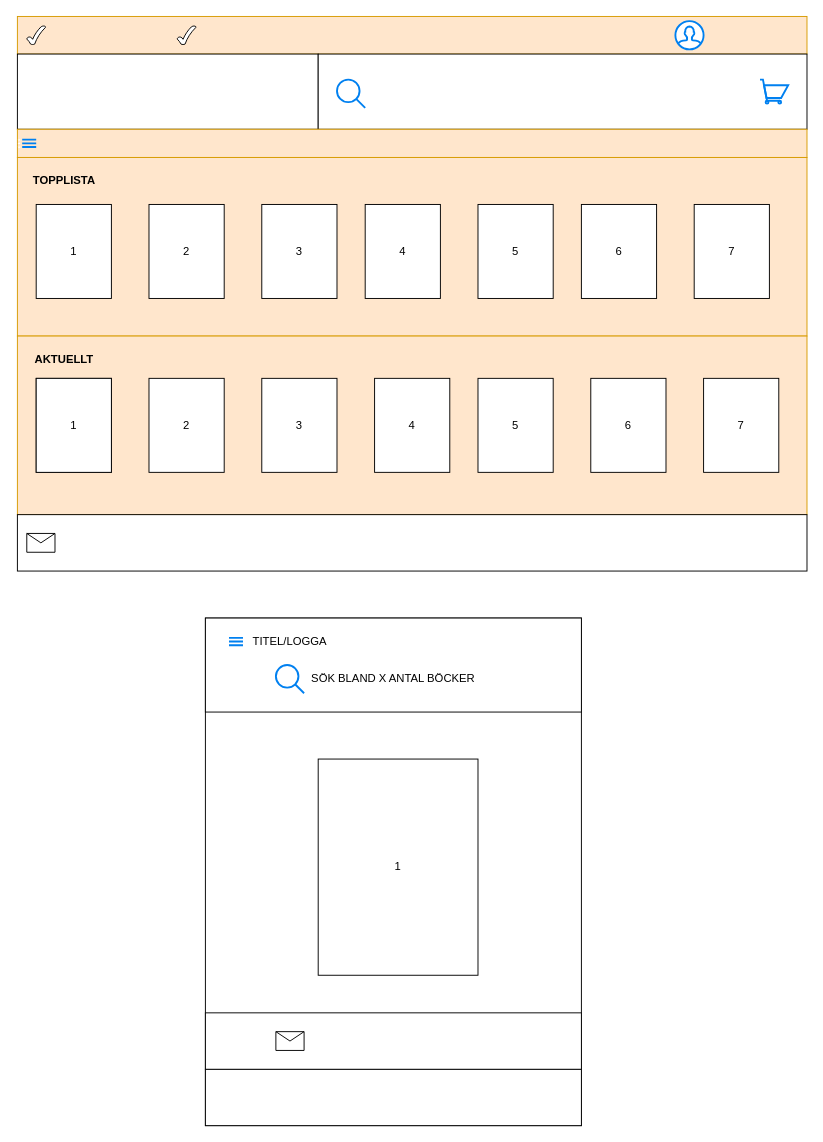
Some shapes in this 823 by 1142 pixel diagram are drawn without their labels. Here are the shapes that lost their labels. From the top down, the box of each, then its label:
(16, 16, 807, 54): Fri frakt över 300kr Snabba leveranser Kundservice
(16, 53, 318, 129): LOGGA/BILD
(317, 53, 807, 129): SÖK BLAND X ANTAL TITLAR Varukorg
(16, 128, 807, 157): Meny Nyheter Topplistor Barnböcker Student Skönlitteratur Fakta
(16, 514, 807, 571): Prenumerera på vårt nyhetsbrev FÖLJ OSS
(204, 1012, 581, 1069): Prenumerera på vårt nyhetsbrev
(204, 1068, 581, 1126): FÖLJ OSS:
